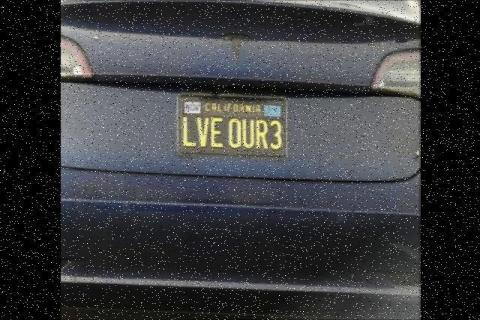LicensePlate: (177, 91, 287, 157)
